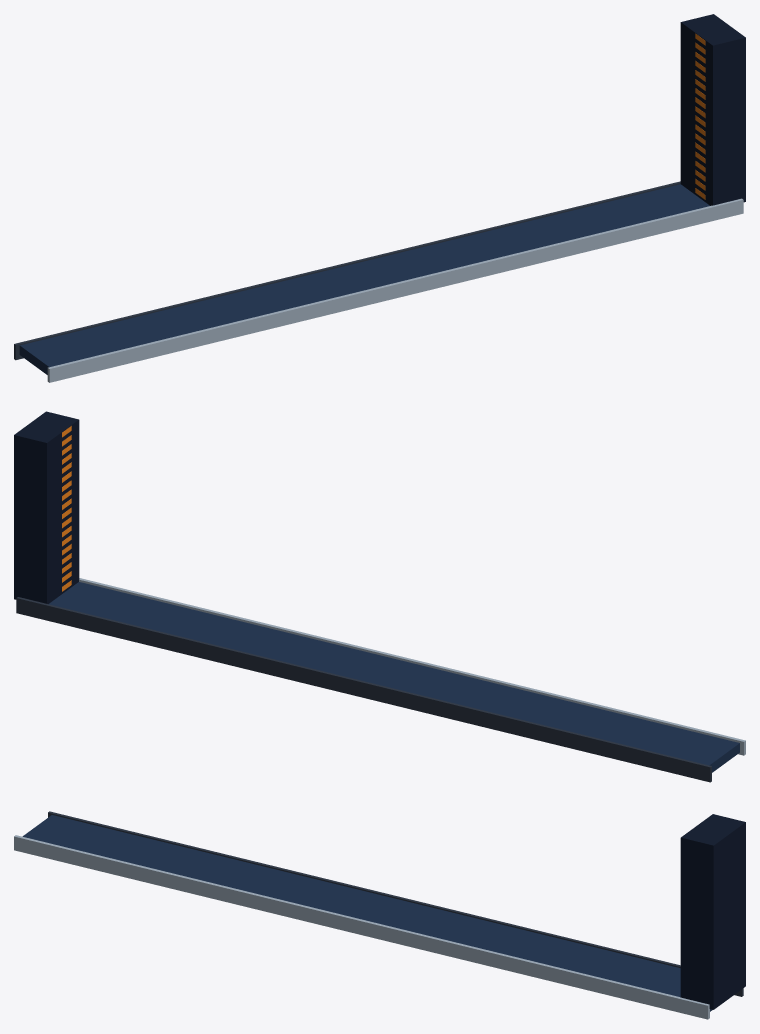
Rendered from infinite_hotel.obj.
The picture shows the model from 3 angles, top to bottom: view 1: azimuth 30°, elevation 25°; view 2: azimuth 150°, elevation 25°; view 3: azimuth 330°, elevation 25°; orthographic projection.
Visible parts, largest first — view 1: hotel_body, roof_cornice, side_wing, foundation; view 2: hotel_body, foundation, side_wing, roof_cornice; view 3: hotel_body, side_wing, roof_cornice, foundation.
Boxes of the visible parts, bbox=[...] form: hotel_body: bbox=[19, 184, 709, 374]; roof_cornice: bbox=[47, 198, 743, 382]; side_wing: bbox=[680, 14, 745, 205]; foundation: bbox=[14, 181, 680, 360]; hotel_body: bbox=[48, 582, 739, 772]; foundation: bbox=[16, 597, 711, 782]; side_wing: bbox=[14, 411, 79, 603]; roof_cornice: bbox=[79, 578, 745, 755]; hotel_body: bbox=[22, 815, 712, 1011]; side_wing: bbox=[680, 814, 745, 1009]; roof_cornice: bbox=[14, 835, 709, 1019]; foundation: bbox=[48, 811, 743, 996].
Bounding box in the file's own units: 84.5 × 20.52 × 7.45.
